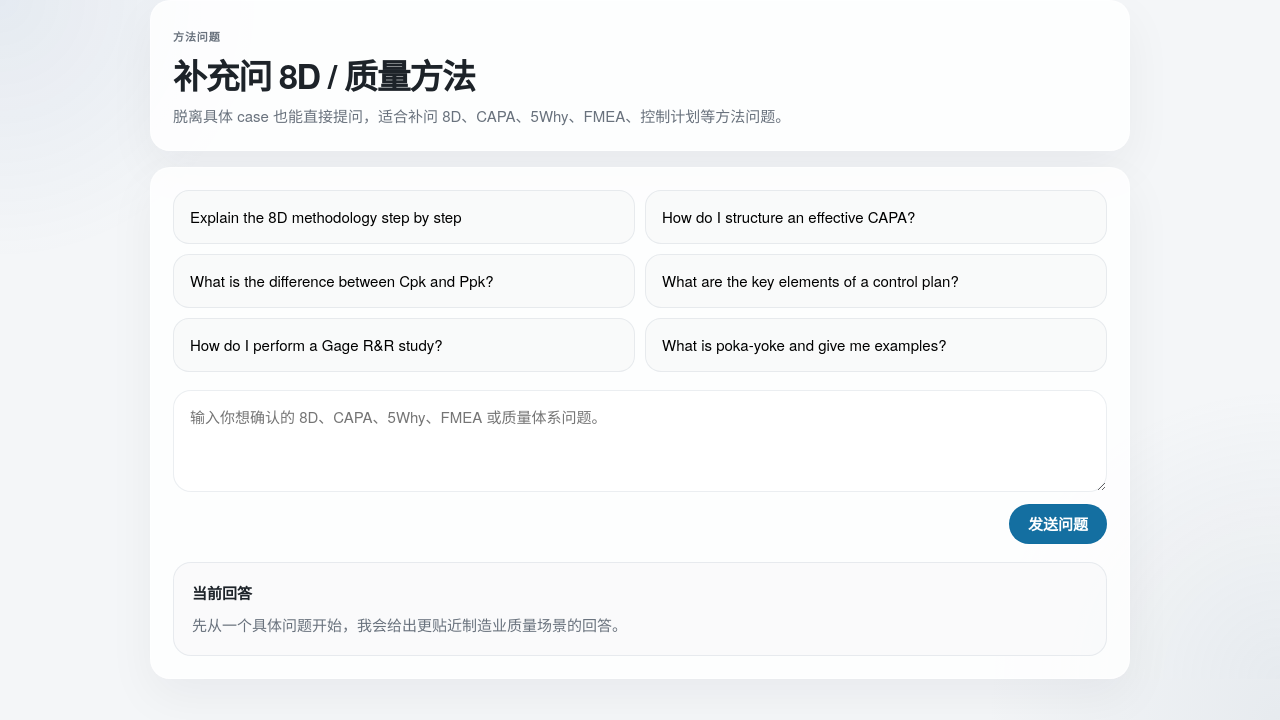
Test: CopilotPage › shows an explicit error when copilot api is unavailable
In the text box named "方法助手输入框": {"x": 640, "y": 441} 173,390 -> 1107,492, type "什么是 8D？"
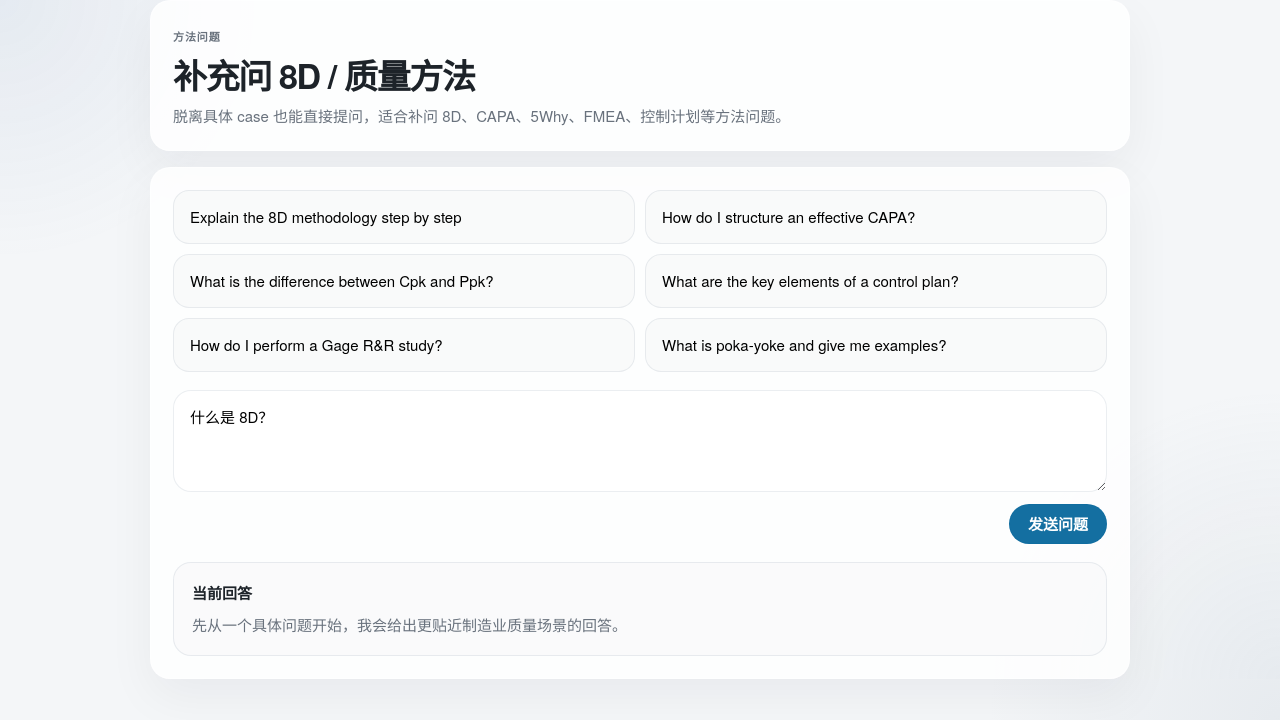
Click the button "发送问题": {"x": 1058, "y": 524} 1009,504 -> 1107,544
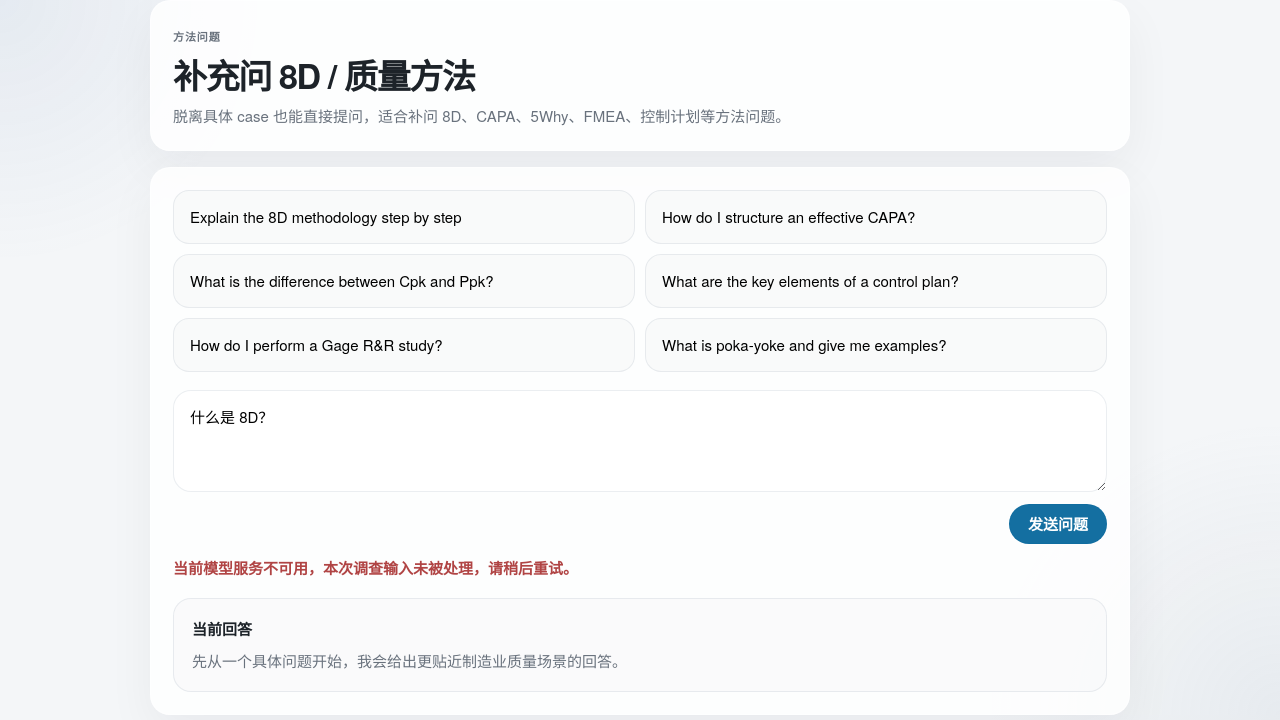
Check: the text "当前模型服务不可用，本次调查输入未被处理，请稍后重试。" is shown, box 173,557 -> 578,579
